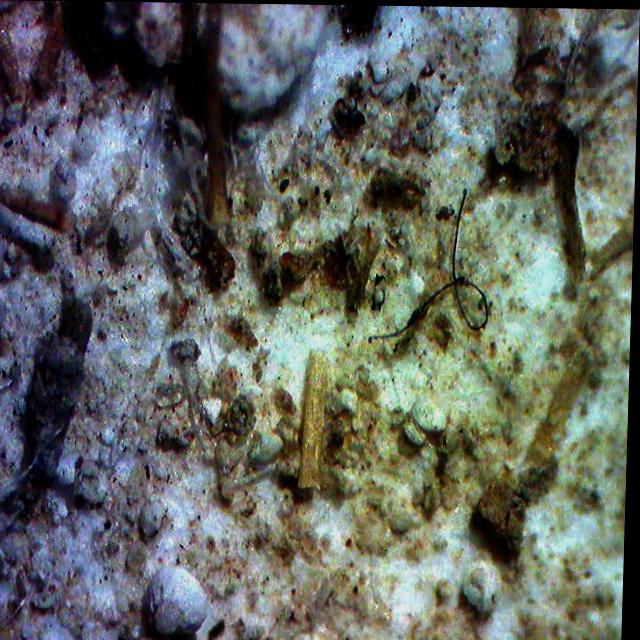microplastic: (353, 186, 493, 342)
